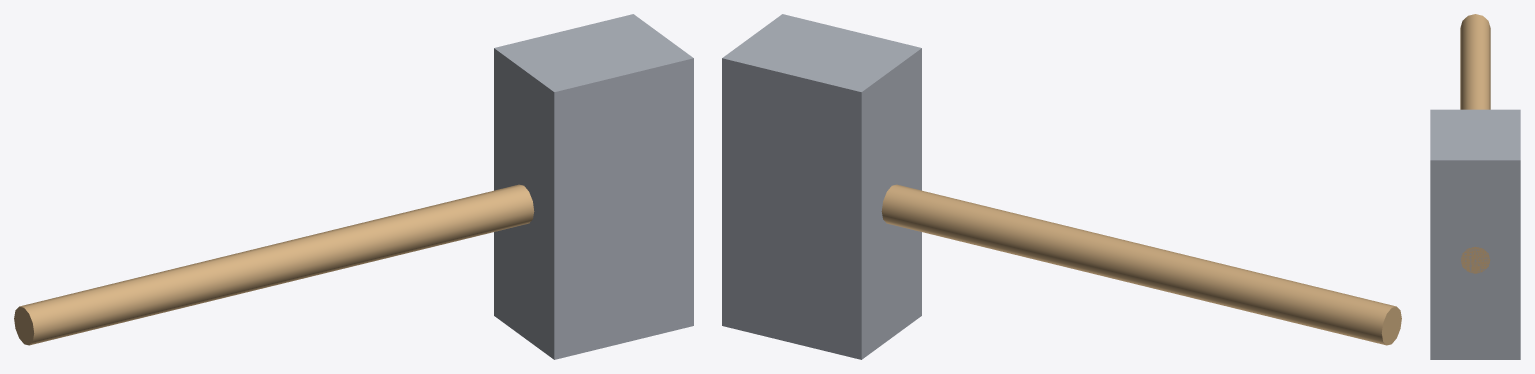
The model's file is weapon_hammer.glb.
3 views of the same model, side by side, from view 1: azimuth 30°, elevation 25°; view 2: azimuth 150°, elevation 25°; view 3: azimuth 270°, elevation 25° (orthographic). The views are drawn at different scales.
Parts seen in each view (by area): view 1: weapon_hammer; view 2: weapon_hammer; view 3: weapon_hammer.
Boxes of the visible parts, x1,y1,x2,y2 form: weapon_hammer: [14, 14, 693, 359]; weapon_hammer: [722, 14, 1401, 359]; weapon_hammer: [1430, 14, 1520, 359].
Size of the model in its own units: 1.1 by 0.44 by 0.18.
